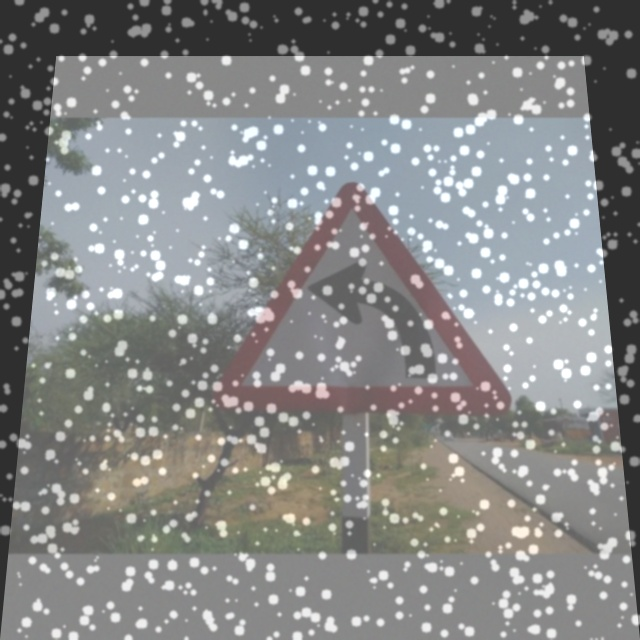Left_Hand_Curve: (232, 183, 511, 416)
